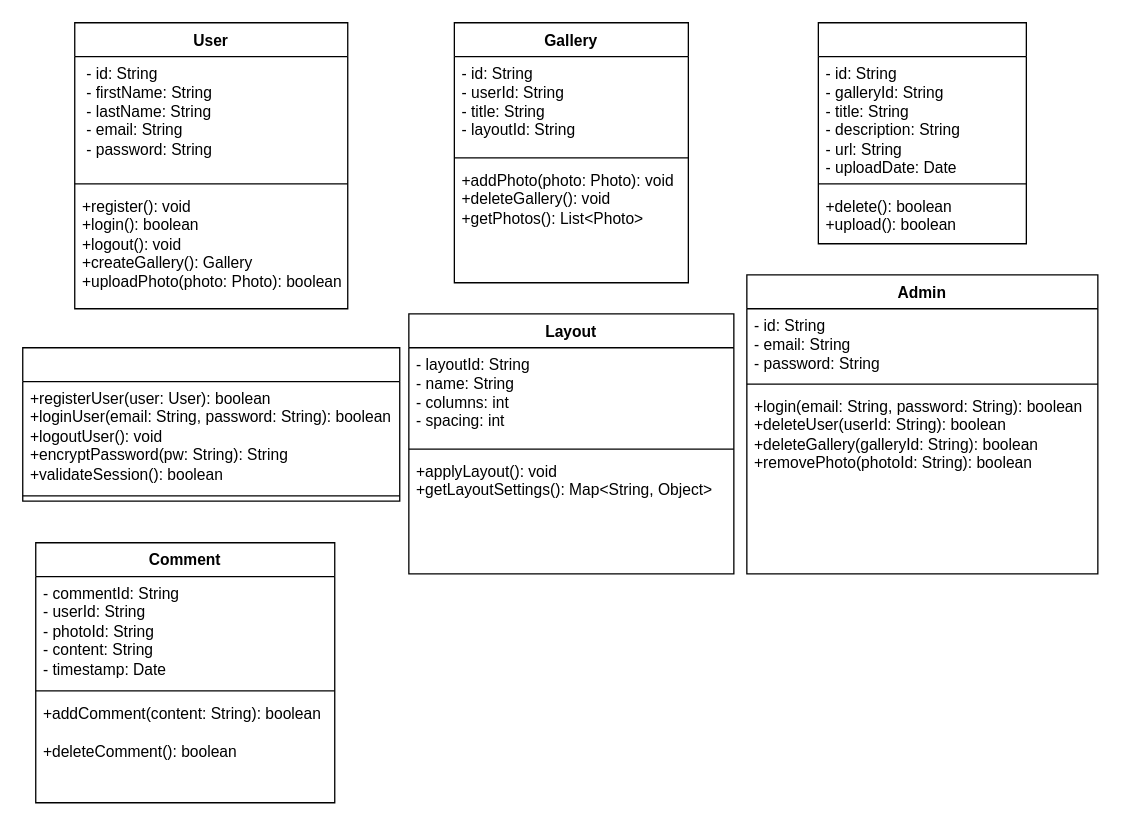
The diagram is 1121 pixels wide and 829 high, and some of its shapes have lost their labels. The shapes that lost their labels are listed below. From the top down, each one's box as (x1, y1, x2, y2) in pixels, then its label:
(817, 21, 1026, 244): Photo
(21, 346, 400, 501): Classname
